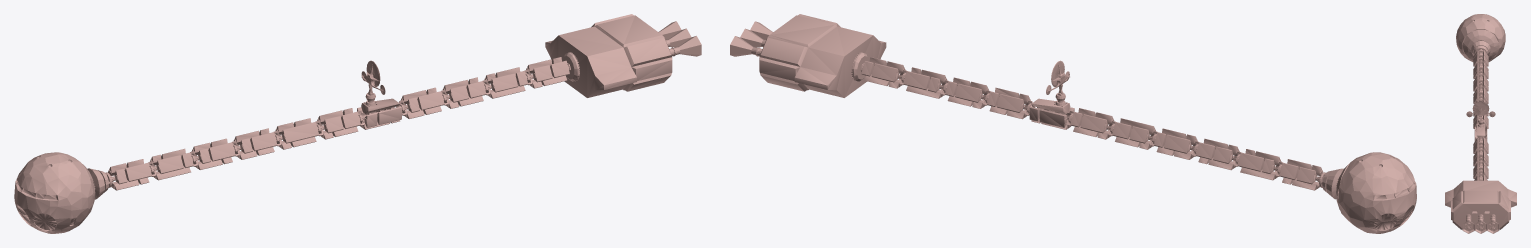
File: discovery.obj
3 renders of one model, left to right at view 1: azimuth 30°, elevation 25°; view 2: azimuth 150°, elevation 25°; view 3: azimuth 270°, elevation 25°, orthographic. The views are drawn at different scales.
Visible parts, largest first — view 1: cmd; view 2: cmd; view 3: cmd.
Boxes of the visible parts, box(x1,y1,x2,y2) form: cmd: box(14, 14, 701, 233); cmd: box(730, 14, 1416, 233); cmd: box(1445, 14, 1516, 233).
Size of the model in its own units: 28.09 by 3.65 by 4.28.
